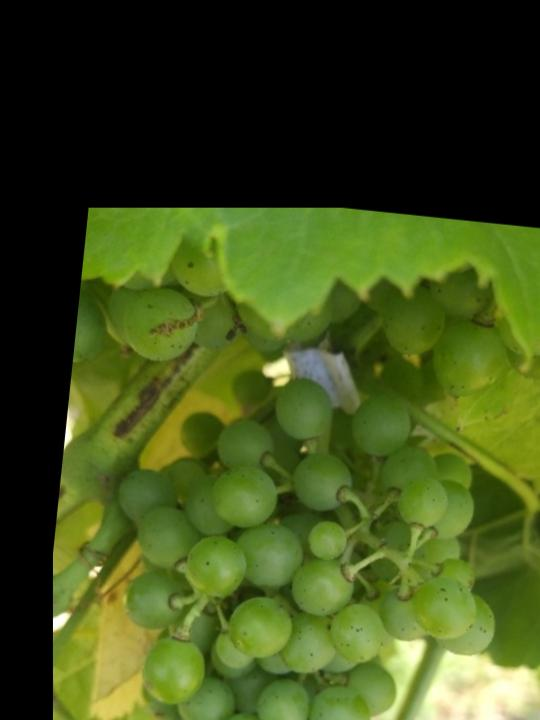grape: (75, 353, 525, 720)
